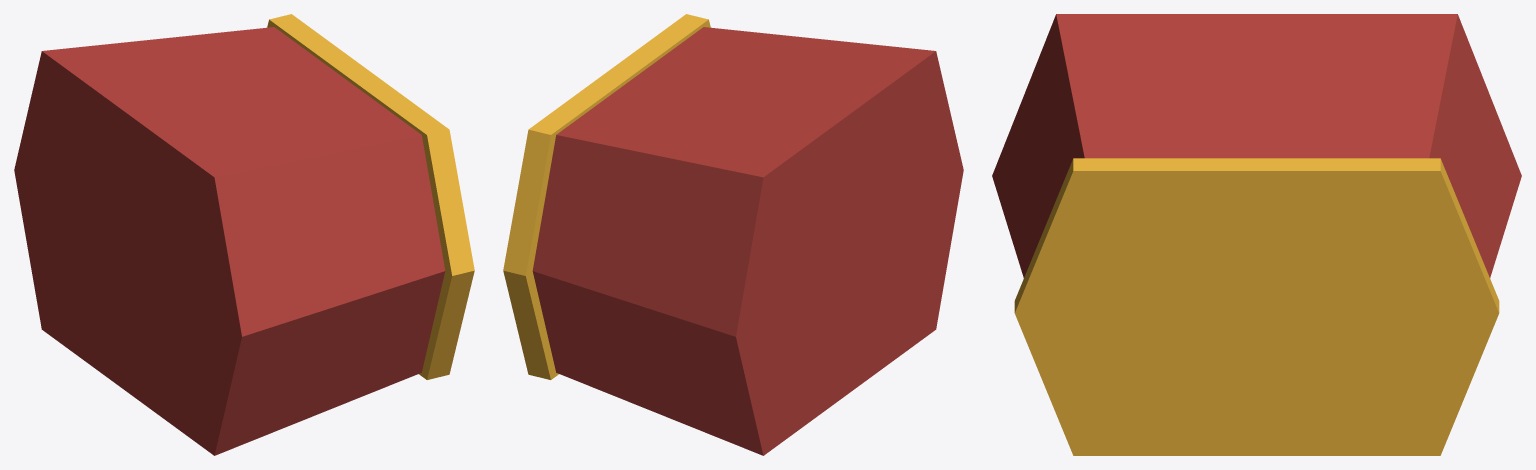
File: touring_lod2.glb
3 renders of one model, left to right at view 1: azimuth 30°, elevation 25°; view 2: azimuth 150°, elevation 25°; view 3: azimuth 270°, elevation 25°, orthographic. The views are drawn at different scales.
Parts seen in each view (by area): view 1: touring_lod2; view 2: touring_lod2; view 3: touring_lod2.
Part boxes in pixels (x1,y1,x2,y2): touring_lod2: (14,14,474,455); touring_lod2: (503,14,963,455); touring_lod2: (992,14,1521,455).
Bounding box in the file's own units: 0.043 × 0.0472 × 0.07.
